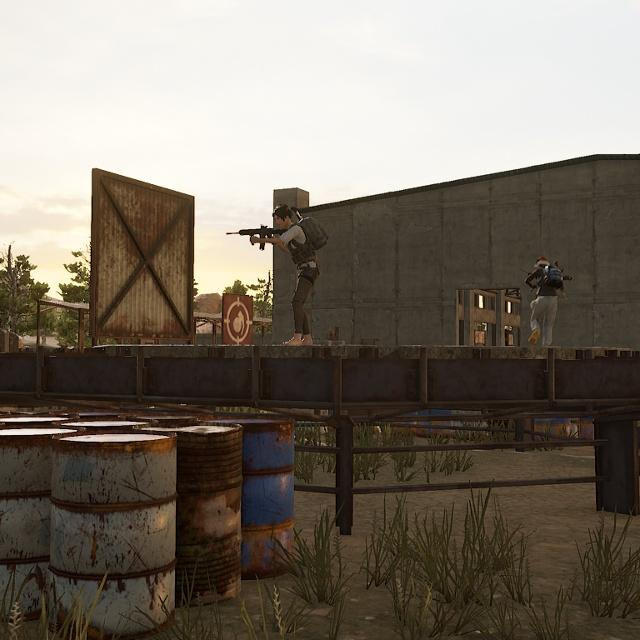head: (269, 202, 298, 228), (534, 253, 553, 272)
people: (266, 201, 324, 348), (523, 252, 569, 347)
